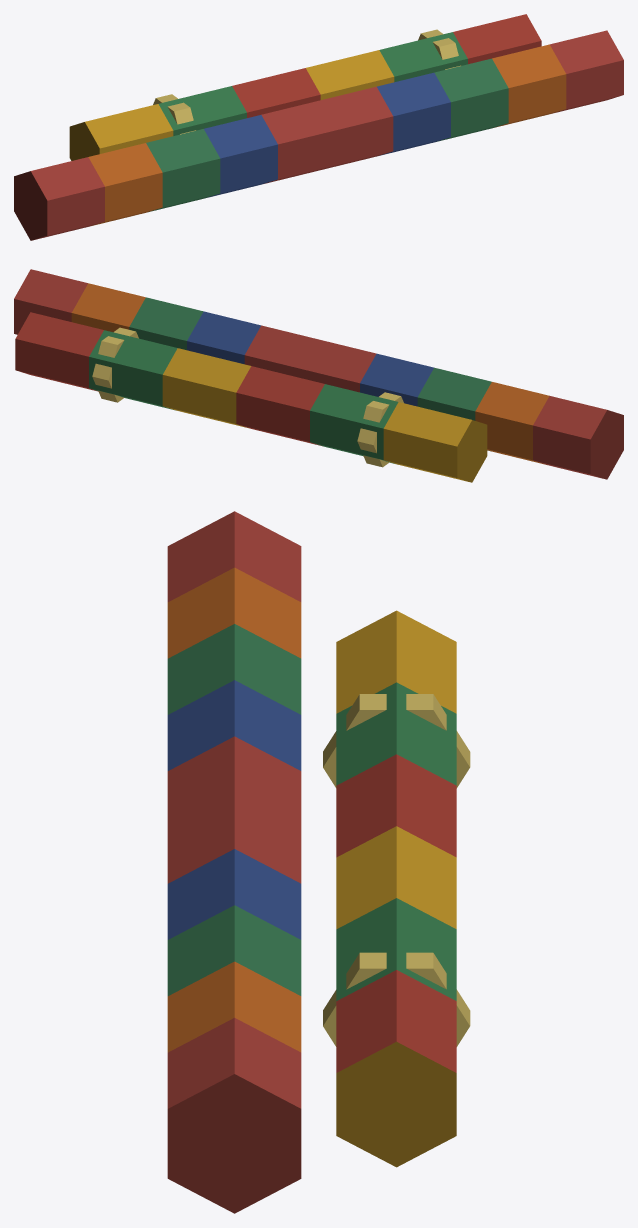
The model's file is kente-throw-roll-30.glb.
The picture shows the model from 3 angles, top to bottom: view 1: azimuth 30°, elevation 25°; view 2: azimuth 150°, elevation 25°; view 3: azimuth 270°, elevation 25°; orthographic projection. The views are drawn at different scales.
Parts seen in each view (by area): view 1: kente_throw_roll_30; view 2: kente_throw_roll_30; view 3: kente_throw_roll_30.
Boxes of the visible parts, x1,y1,x2,y2 form: kente_throw_roll_30: [14, 14, 623, 240]; kente_throw_roll_30: [14, 269, 623, 482]; kente_throw_roll_30: [167, 511, 470, 1213].
Size of the model in its own units: 1.06 by 0.1231 by 0.2413.
